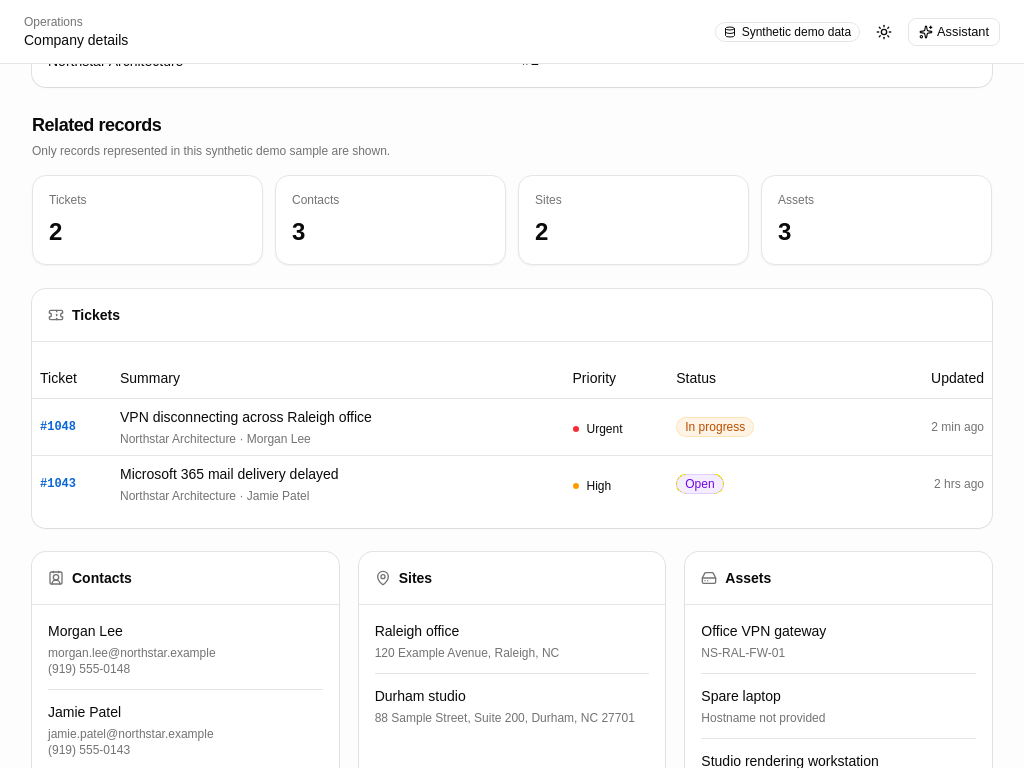
it: site routes › navigates from company to site and back, resetting center scroll
The width and height of the screenshot is (1024, 768).
(page scrolled)
Expected: the link with aria-label "Open site #6: Durham studio" is shown, [375,688,466,704]
Click the link with aria-label "Open site #1: Raleigh office": (417, 630) [375,622,459,638]
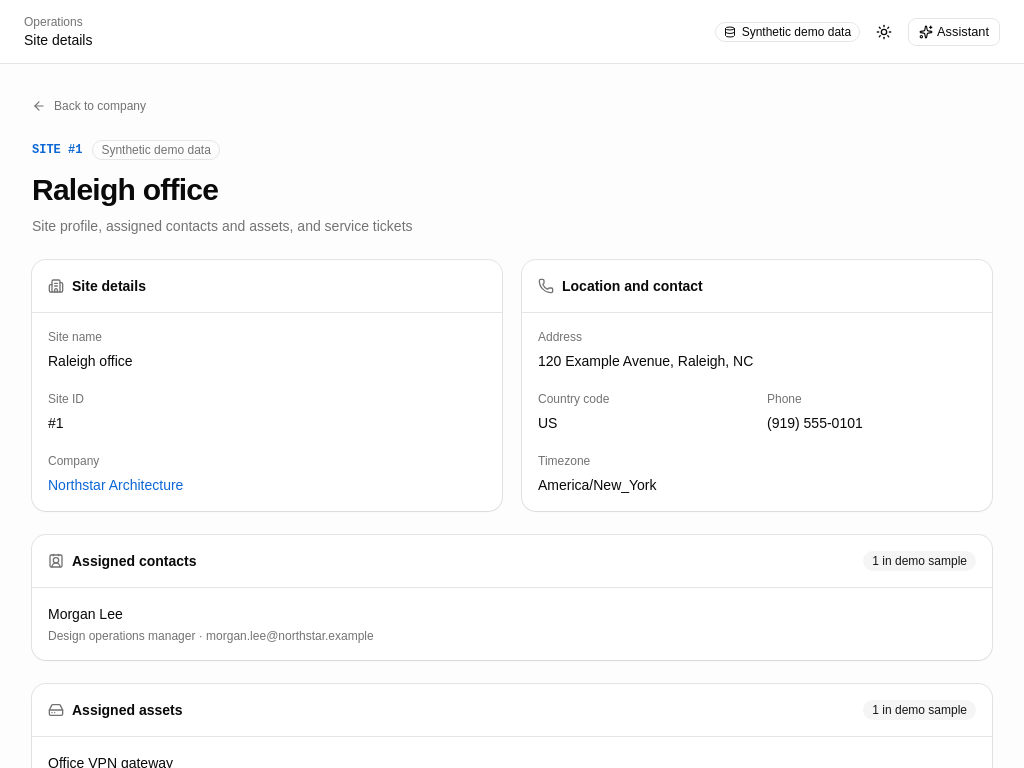
Expected: the heading "Raleigh office" is shown, [32,173,218,206]
Click the link "Back to company": (89, 106) [32,98,146,114]
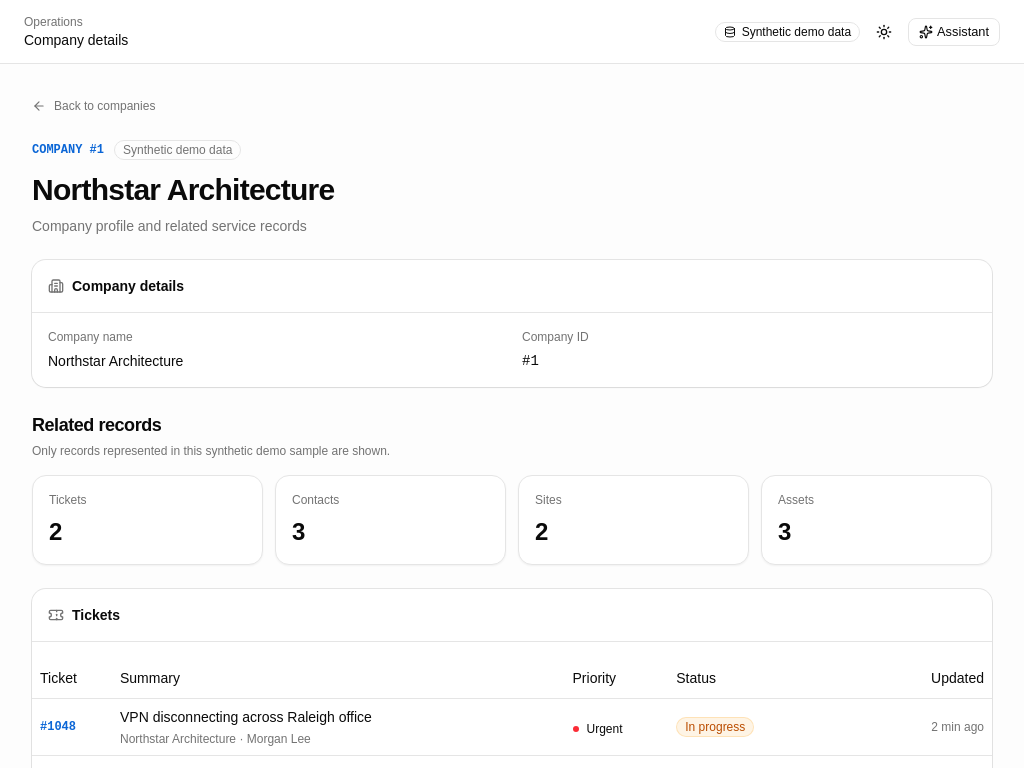
Result: the heading "Northstar Architecture" is shown at [32,173,334,206]
